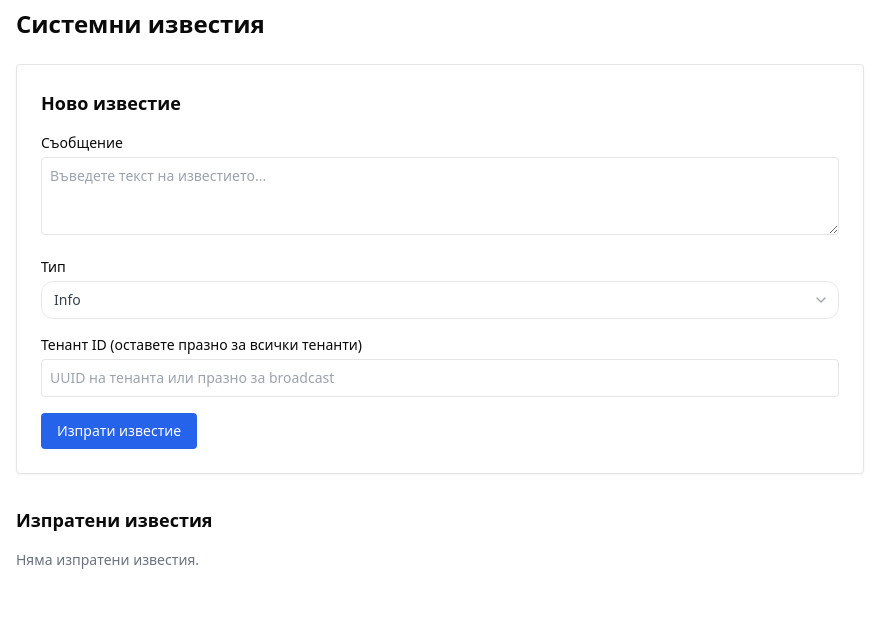
Test case: SystemNotificationsPage › shows validation error when message is empty
This screenshot has width=881, height=618.
Expected: the text "Няма изпратени известия." is shown, [16,550,199,569]
Click the button "Изпрати известие".
click(119, 431)  # box [41,413,197,449]
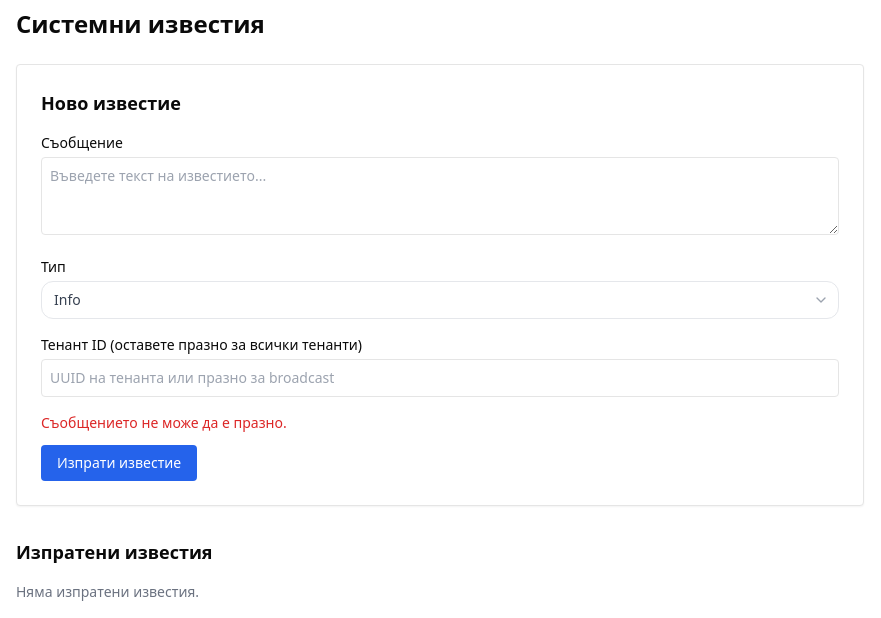
Result: the text "Съобщението не може да е празно." is shown at [41,413,287,432]
